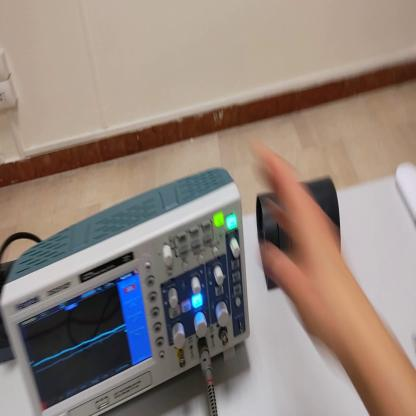hand: (256, 142, 349, 344)
oscilloscope: (1, 163, 251, 416)
